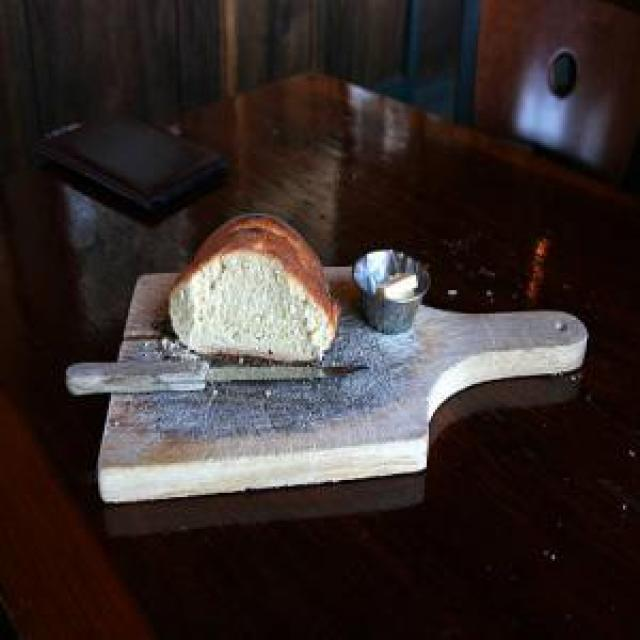knife: (49, 354, 376, 402)
